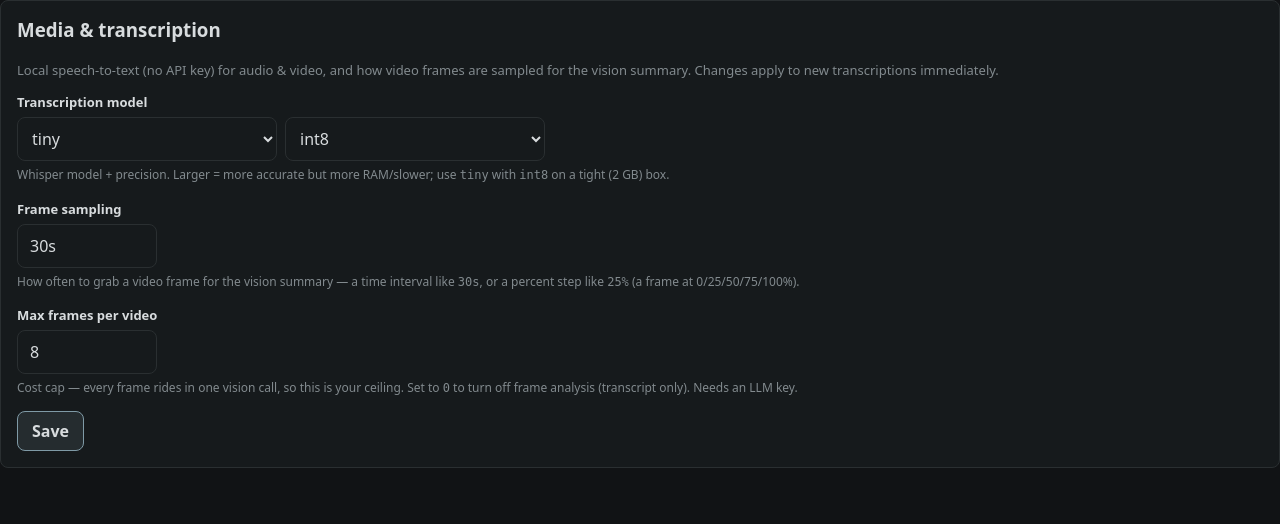
MediaSettings › saving PUTs only the four editable fields (max coerced to Number) and confirms
The width and height of the screenshot is (1280, 524).
Expected: the heading "Media & transcription" is shown, [17, 17, 221, 42]
Select "small" in the 1st dropdown at {"x": 147, "y": 139}, box [17, 117, 277, 161]
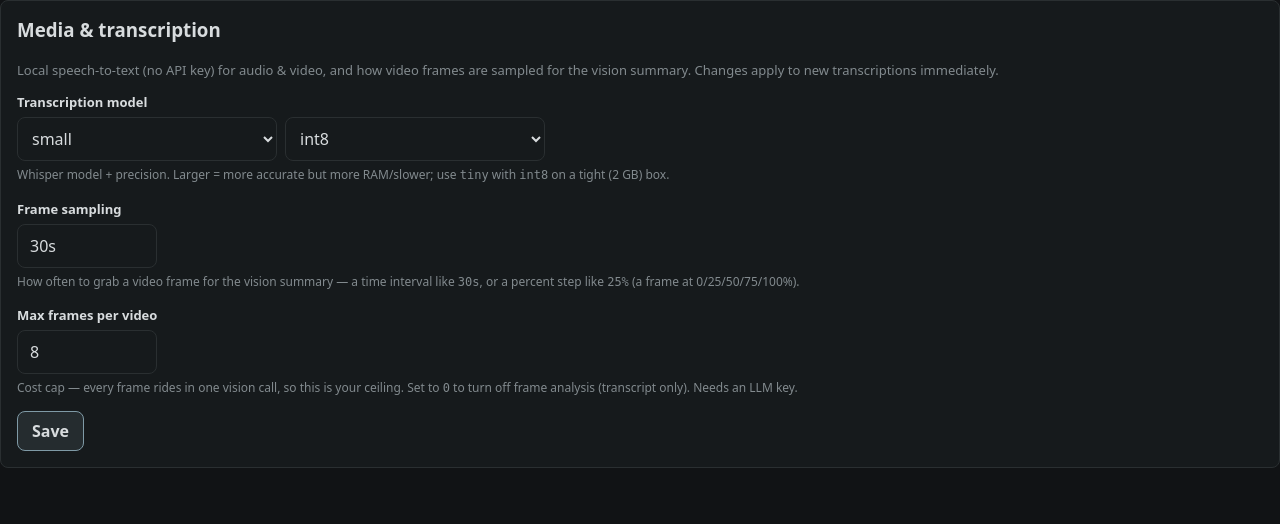
Select "float16" in the 2nd dropdown at {"x": 415, "y": 139}, box [285, 117, 545, 161]
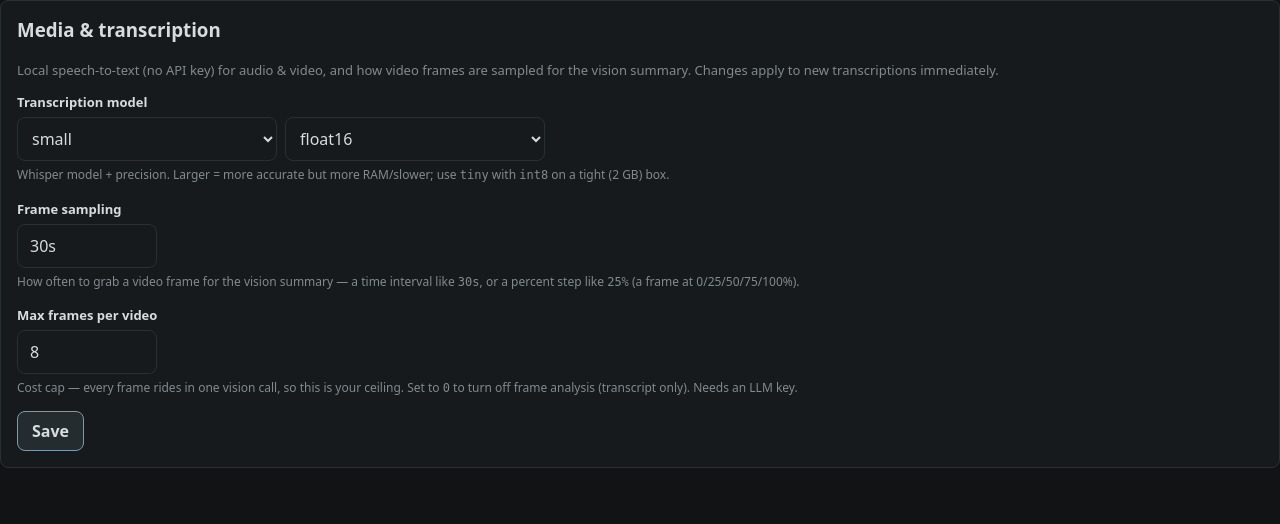
Replace the text in the field with placeholder "30s or 25%" with "25%" at {"x": 87, "y": 246}, box [17, 224, 157, 268]
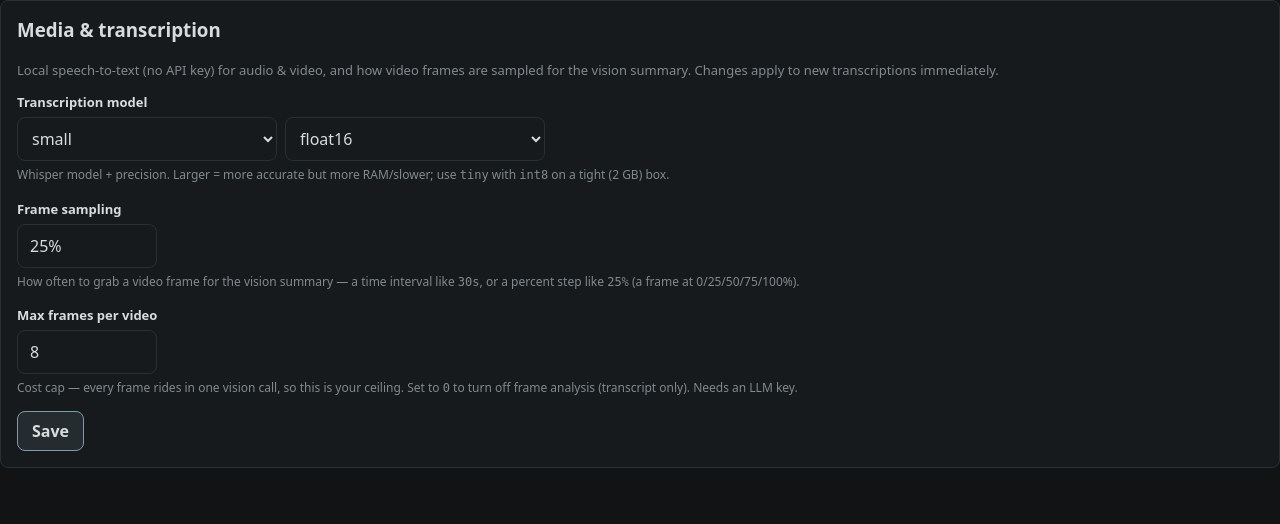
Replace the text in the number field with "12" at {"x": 87, "y": 352}, box [17, 330, 157, 374]
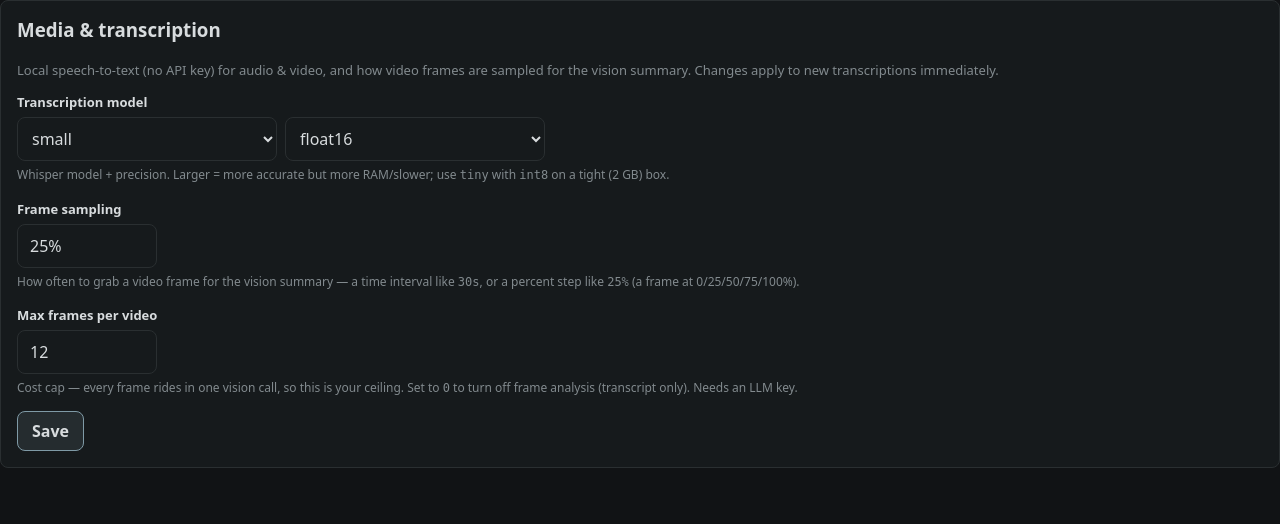
Click the button "Save" at {"x": 50, "y": 431}, box [17, 411, 84, 451]
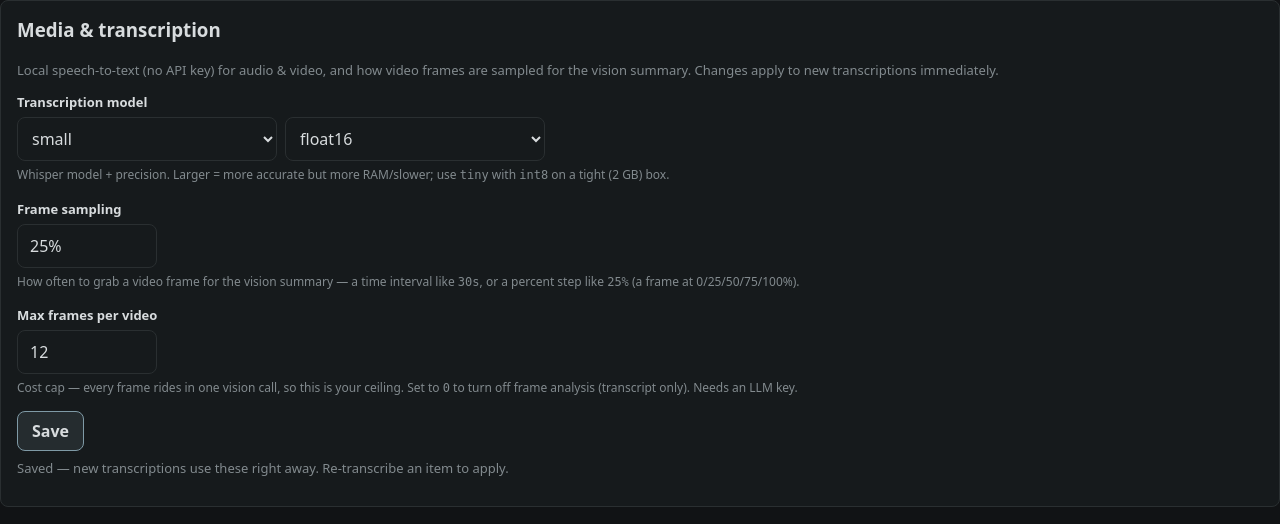
Result: the text "new transcriptions use these right away" is shown at [17, 459, 509, 477]
